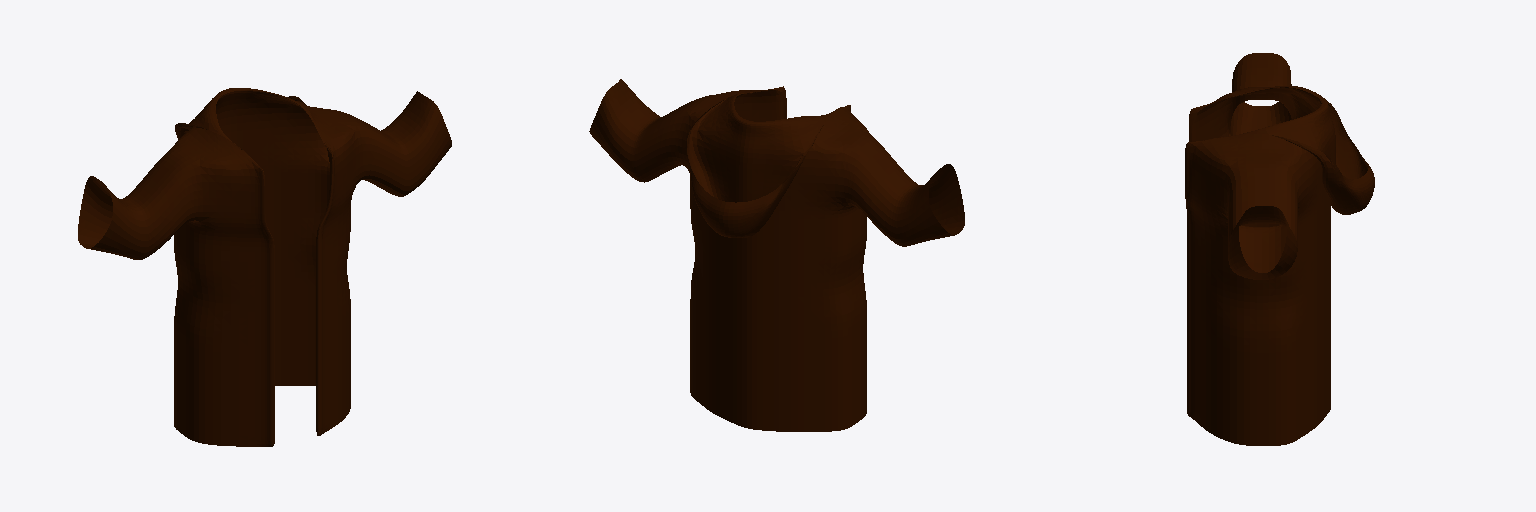
File: Yoda_Cloak_1_Export.obj
The picture shows the model from 3 angles: view 1: azimuth 30°, elevation 25°; view 2: azimuth 150°, elevation 25°; view 3: azimuth 270°, elevation 25°; orthographic projection.
Visible parts, largest first — view 1: Cloak_Circle.003; view 2: Cloak_Circle.003; view 3: Cloak_Circle.003.
Part boxes in pixels (x1,y1,x2,y2): Cloak_Circle.003: (78, 88, 451, 446); Cloak_Circle.003: (589, 79, 964, 431); Cloak_Circle.003: (1185, 53, 1374, 445).
Bounding box in the file's own units: 5.11 × 4.09 × 2.31.